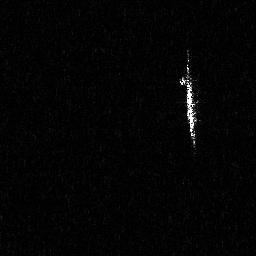ship: (177, 46, 202, 153)
